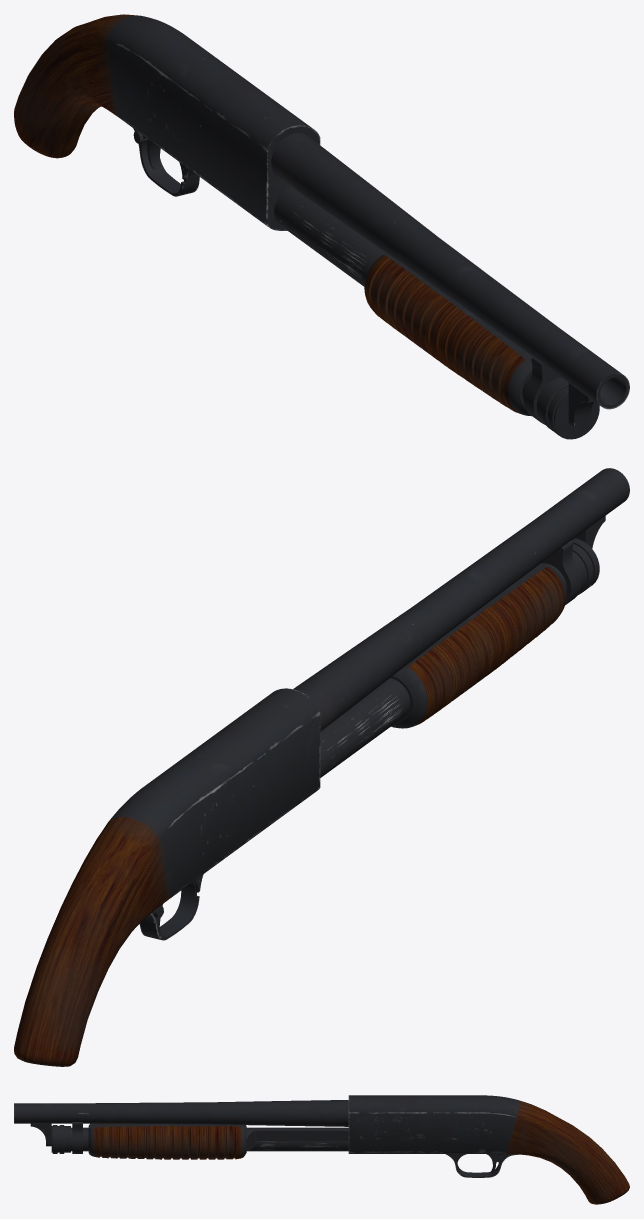
3 renders of one model, top to bottom at view 1: azimuth 30°, elevation 25°; view 2: azimuth 150°, elevation 25°; view 3: azimuth 270°, elevation 25°, orthographic. The views are drawn at different scales.
Visible parts, largest first — view 1: Body_Material; view 2: Body_Material; view 3: Body_Material.
Part boxes in pixels (bbox=[...]): Body_Material: bbox=[14, 14, 629, 439]; Body_Material: bbox=[14, 468, 629, 1066]; Body_Material: bbox=[14, 1095, 629, 1204].
Bounding box in the file's own units: 0.0654 × 0.1887 × 1.
1 material, 1 textured.
